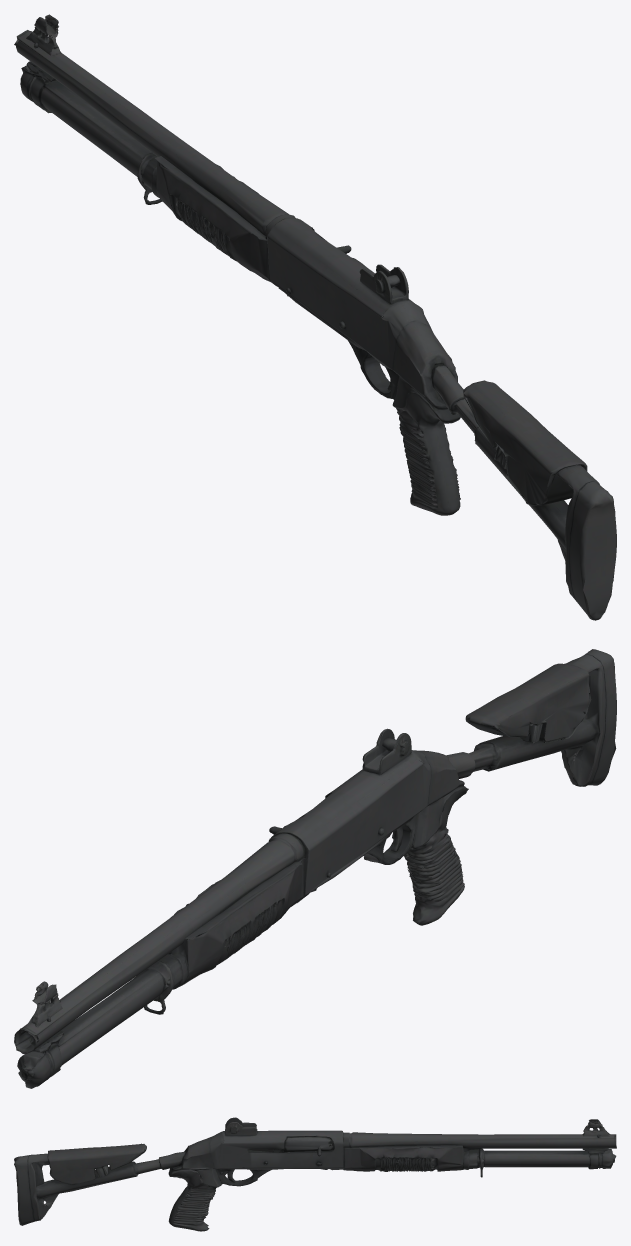
3 views of the same model, one above another, from view 1: azimuth 30°, elevation 25°; view 2: azimuth 150°, elevation 25°; view 3: azimuth 270°, elevation 25° (orthographic). The views are drawn at different scales.
Parts seen in each view (by area): view 1: govde; view 2: govde; view 3: govde.
Part boxes in pixels (left/top/right/bottom): govde: left=14, top=14, right=616, bottom=620; govde: left=14, top=649, right=616, bottom=1088; govde: left=14, top=1117, right=616, bottom=1231.
Size of the model in its own units: 0.0679 by 0.2031 by 1.
Materials: 1 (1 with a texture image).
